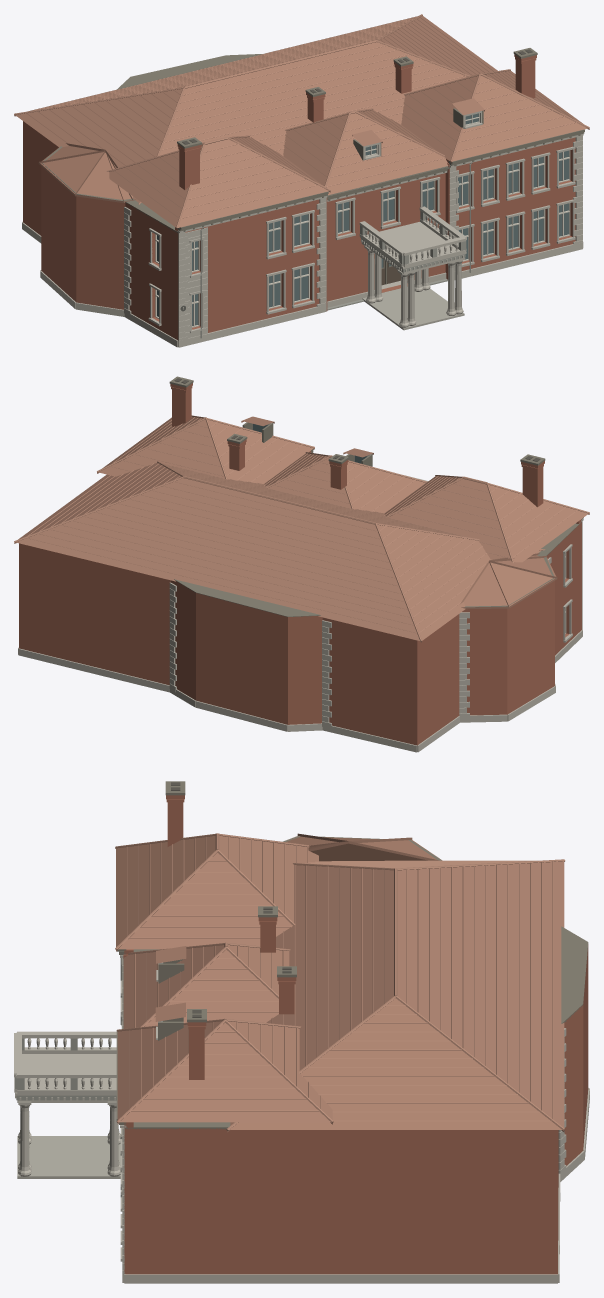
File: huangpu-ruijin-guesthouse-01-lod.glb
3 renders of one model, top to bottom at view 1: azimuth 30°, elevation 25°; view 2: azimuth 150°, elevation 25°; view 3: azimuth 270°, elevation 25°, orthographic. The views are drawn at different scales.
Visible parts, largest first — view 1: 瑞金宾馆1号楼（马立斯住宅主楼与庭院立面）; view 2: 瑞金宾馆1号楼（马立斯住宅主楼与庭院立面）; view 3: 瑞金宾馆1号楼（马立斯住宅主楼与庭院立面）.
Part boxes in pixels (x1,y1,x2,y2): 瑞金宾馆1号楼（马立斯住宅主楼与庭院立面）: [14, 14, 589, 347]; 瑞金宾馆1号楼（马立斯住宅主楼与庭院立面）: [14, 376, 589, 752]; 瑞金宾馆1号楼（马立斯住宅主楼与庭院立面）: [14, 781, 589, 1283].
Size of the model in its own units: 33.07 by 12.98 by 27.14.
